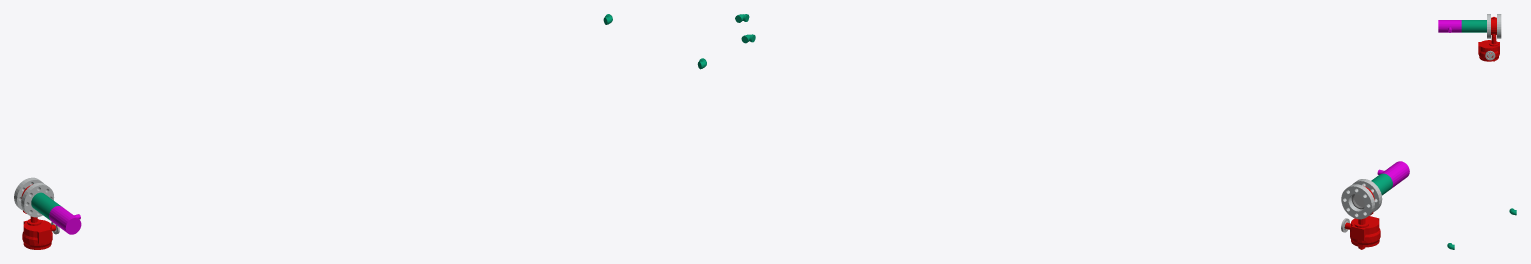
The picture shows the model from 3 angles, left to right: view 1: azimuth 30°, elevation 25°; view 2: azimuth 150°, elevation 25°; view 3: azimuth 270°, elevation 25°; orthographic projection. The views are drawn at different scales.
Size of the model in its own units: 4.81 by 0.5437 by 0.701.
